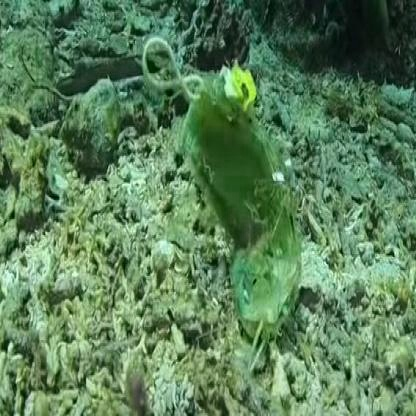Mask: (142, 35, 300, 371)
